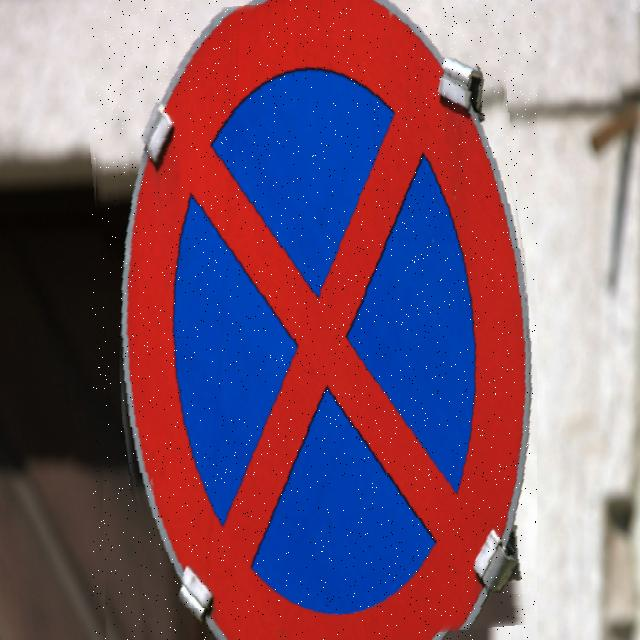no stopping: (92, 0, 537, 640)
